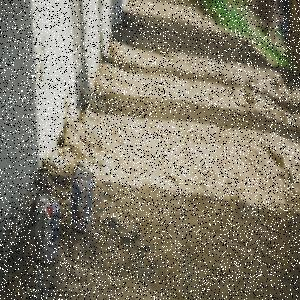Can: (35, 195, 63, 269), (69, 167, 97, 234)
